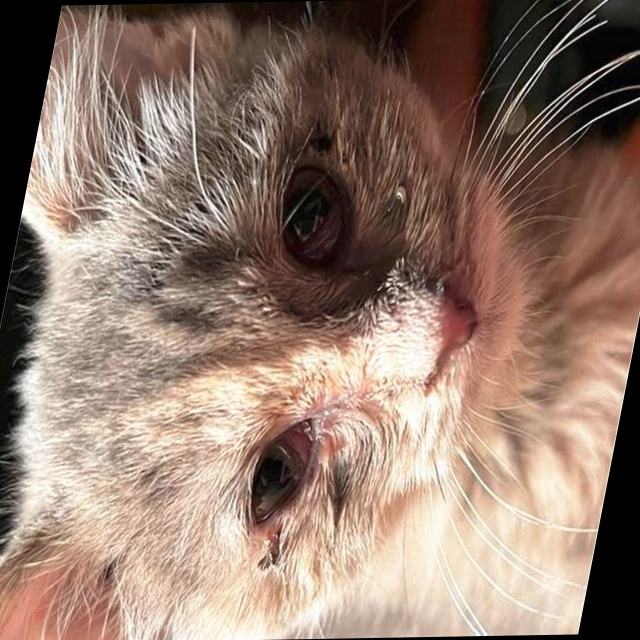eye_infection: (249, 418, 324, 516), (273, 171, 353, 259)
